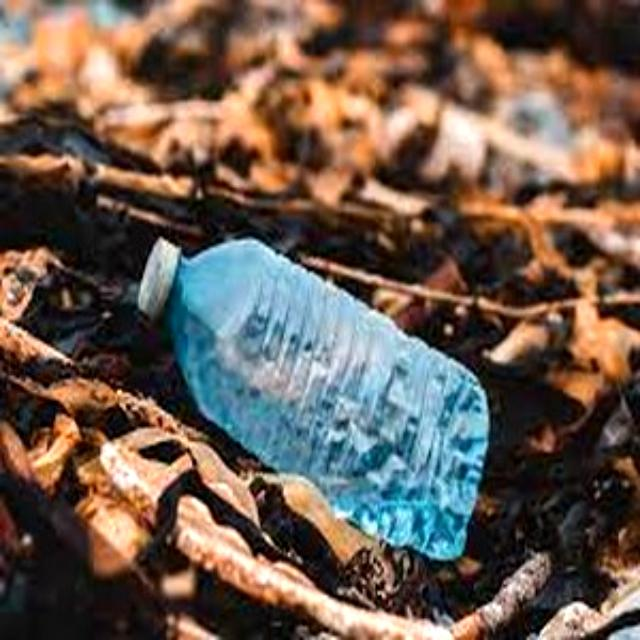Plastic: (140, 232, 488, 558)
